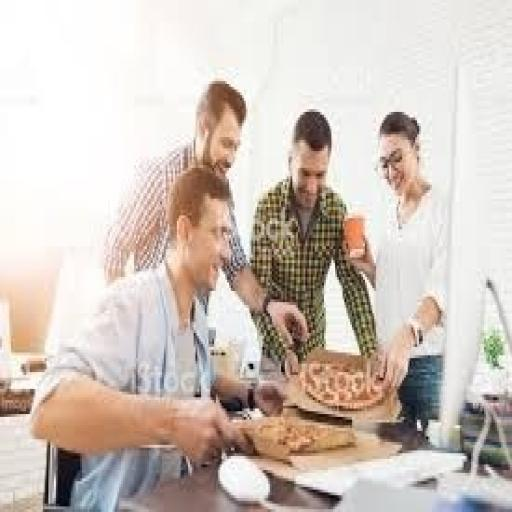eating: (28, 162, 285, 509), (101, 76, 309, 384), (246, 106, 380, 375), (342, 109, 450, 425)
